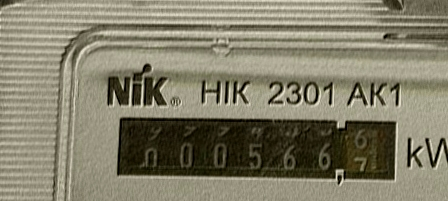0: (211, 142, 230, 171), (177, 141, 195, 170), (141, 145, 161, 168)
5: (246, 142, 265, 172)
6: (315, 141, 335, 172), (279, 144, 299, 172), (354, 129, 370, 154)
7: (352, 157, 369, 175)
9: (146, 123, 164, 143)
screen: (108, 111, 402, 190)
